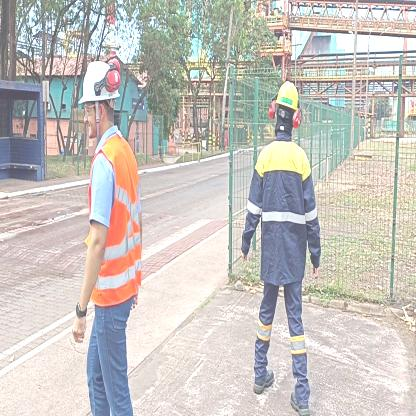Balaclava: (273, 104, 297, 140)
C_eletrica: (250, 146, 320, 274)
Capacete: (76, 57, 119, 101), (271, 76, 301, 113)
colete: (88, 137, 142, 312)
